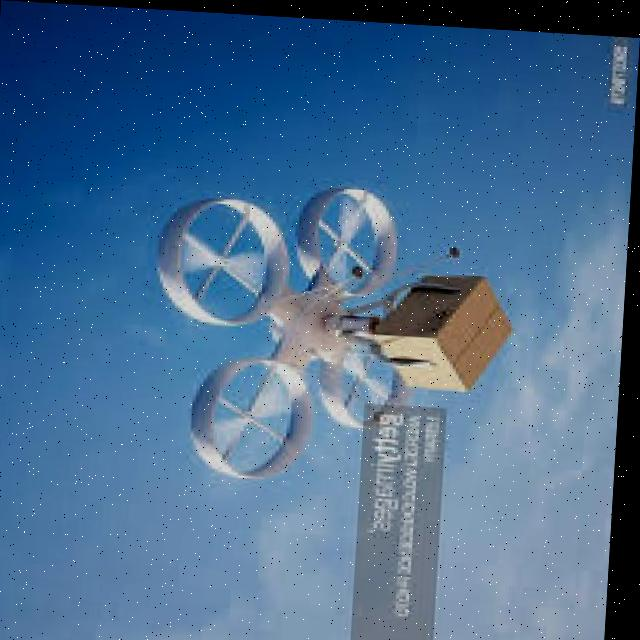drone: (138, 151, 431, 491)
